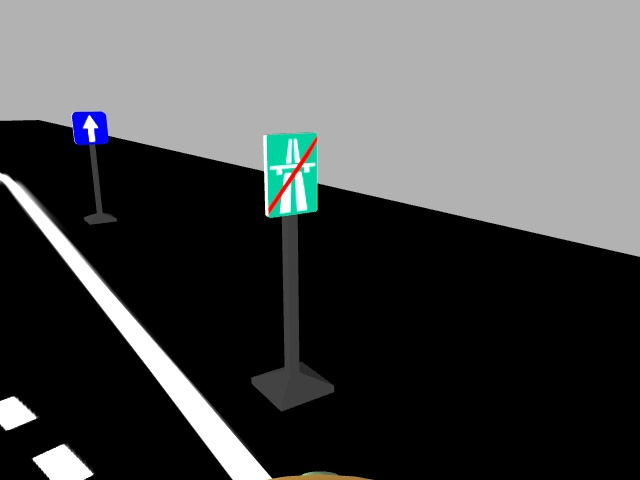HighwayExit: (260, 133, 320, 215)
OneWay: (71, 109, 109, 144)
